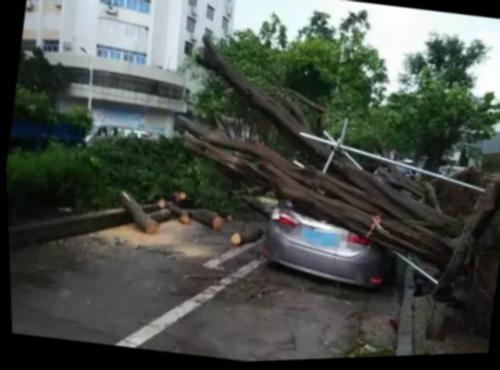Downstairs: (146, 18, 500, 316)
